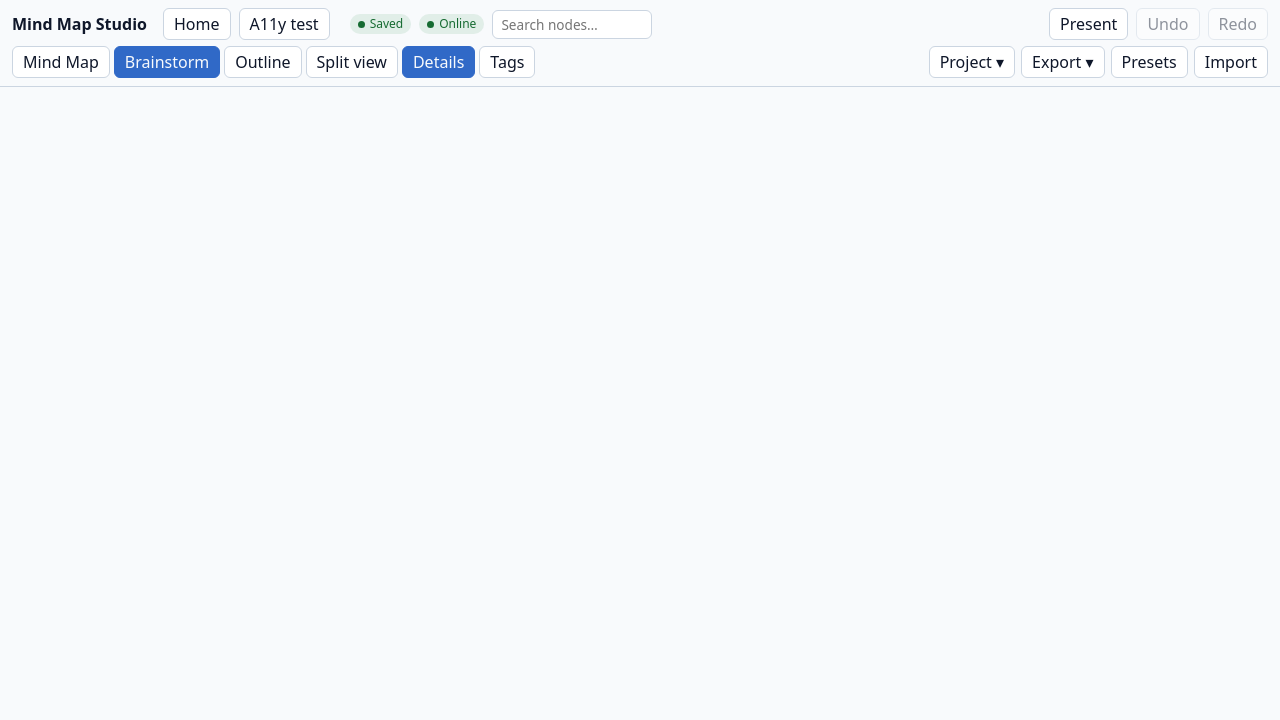
Toolbar a11y — dialogs › Escape on the Presets dialog closes it
The width and height of the screenshot is (1280, 720).
Click the button "Presets" at (1149, 62), box [1111,46,1188,78]
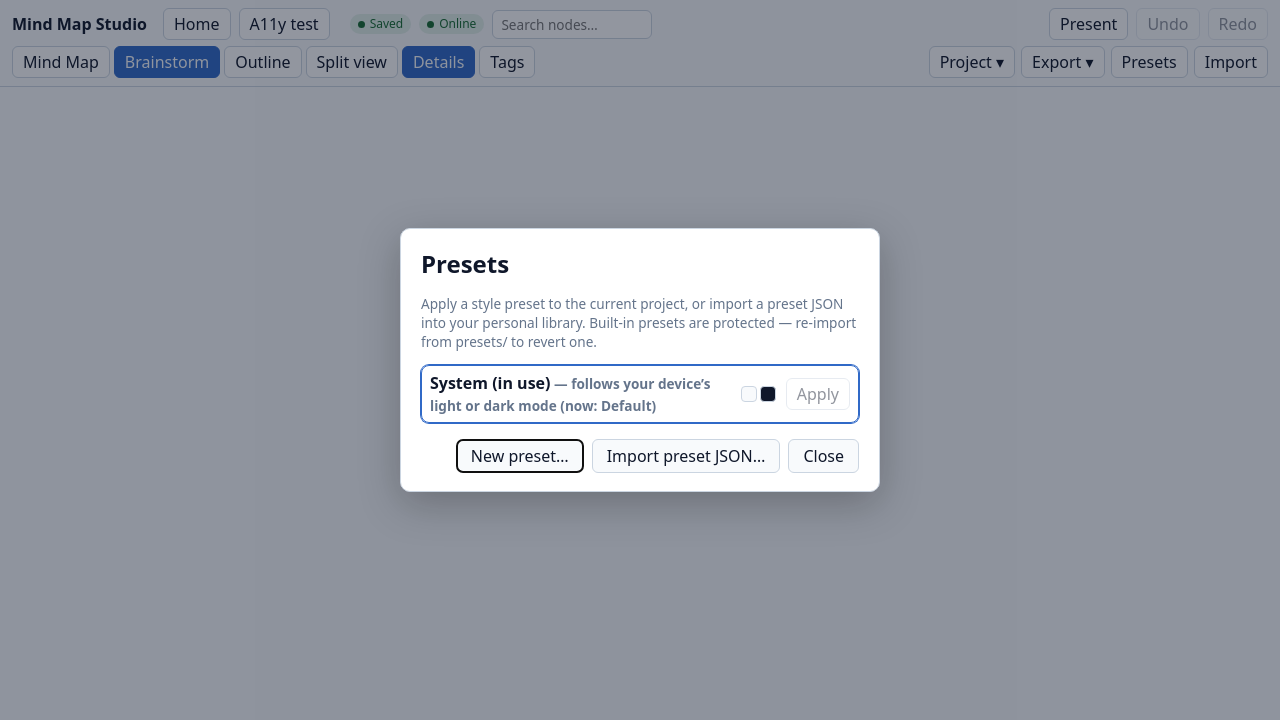
Press Escape in the dialog, box [400,228,880,492]
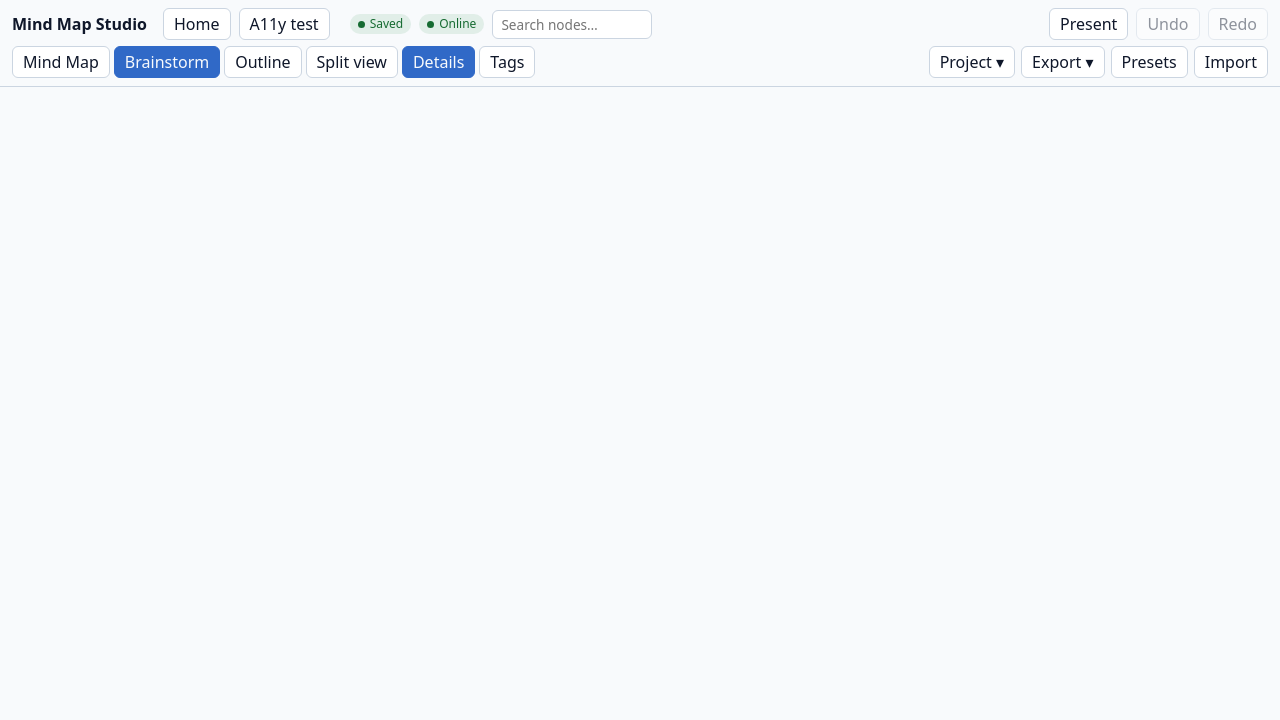
expect the dialog is gone: met
